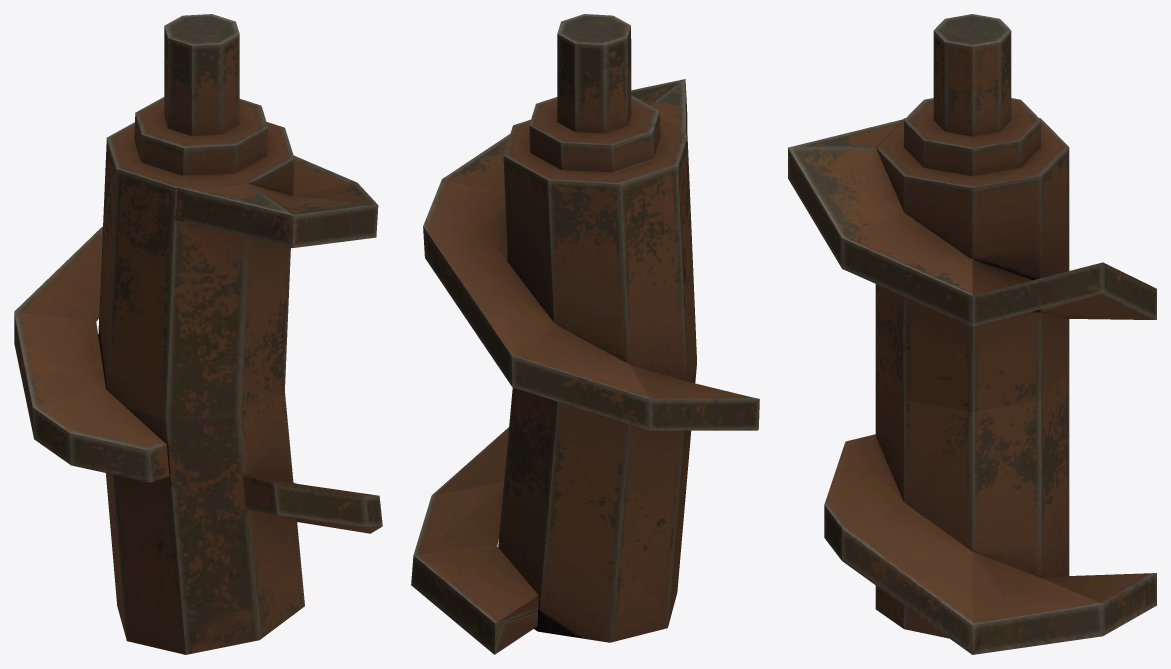
The model's file is Broken_DrillBit.glb.
3 views of the same model, side by side, from view 1: azimuth 30°, elevation 25°; view 2: azimuth 150°, elevation 25°; view 3: azimuth 270°, elevation 25° (orthographic). The views are drawn at different scales.
Visible parts, largest first — view 1: Broken_DrillBit; view 2: Broken_DrillBit; view 3: Broken_DrillBit.
Boxes of the visible parts, x1,y1,x2,y2 form: Broken_DrillBit: (14,14,382,654); Broken_DrillBit: (411,14,759,654); Broken_DrillBit: (788,14,1156,654).
Size of the model in its own units: 0.3037 by 0.5095 by 0.2886.
1 material, 1 textured.
